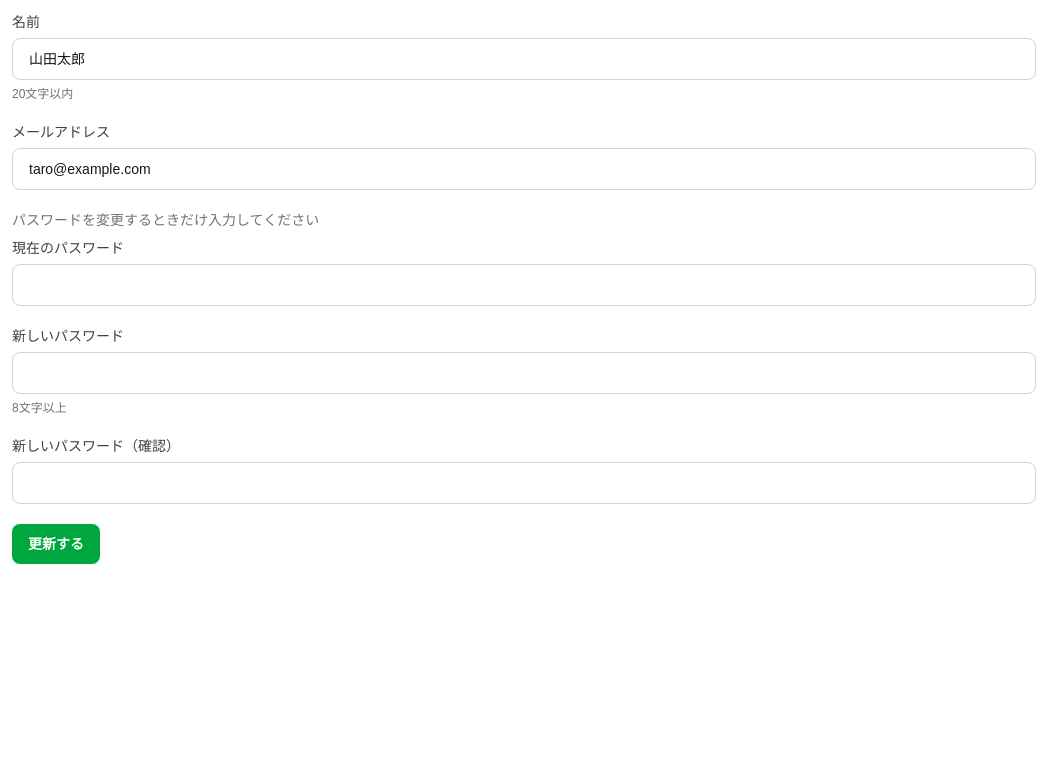
Test: 新しいパスワードを入れたときだけ、長さ・確認用・現在のパスワードを確かめる
The image size is (1048, 780).
Type "short" into the password field labelled "新しいパスワード" at (524, 373), box [12, 352, 1036, 394]
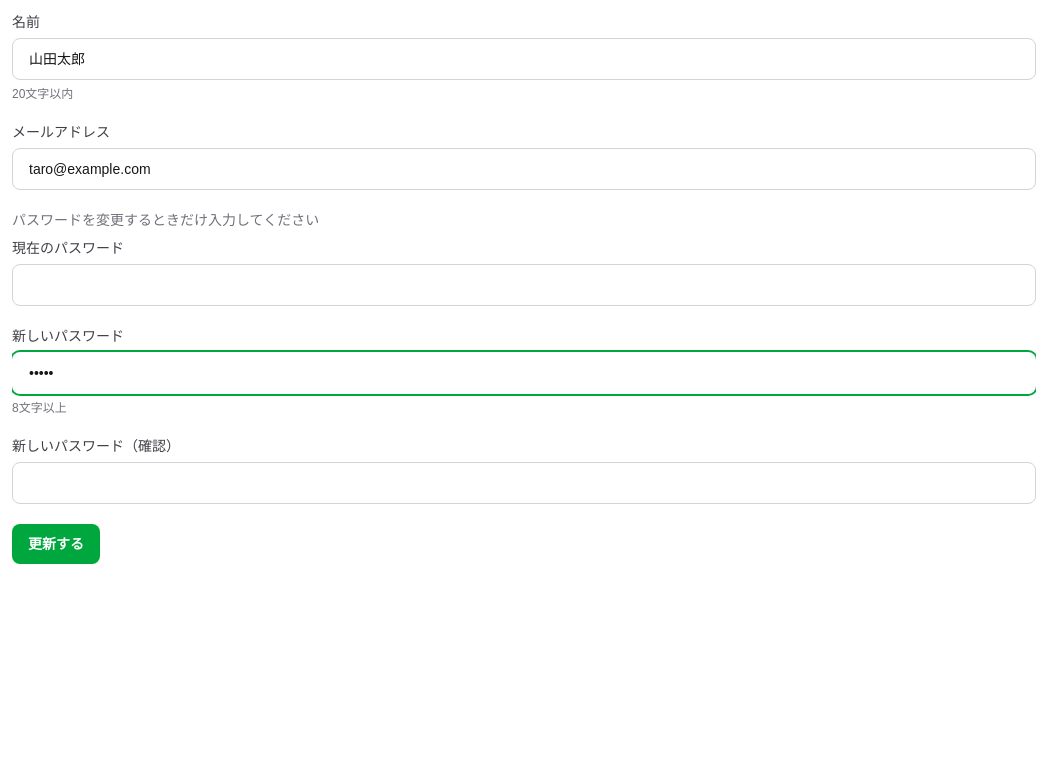
Type "different" into the password field labelled "新しいパスワード（確認）" at (524, 483), box [12, 462, 1036, 504]
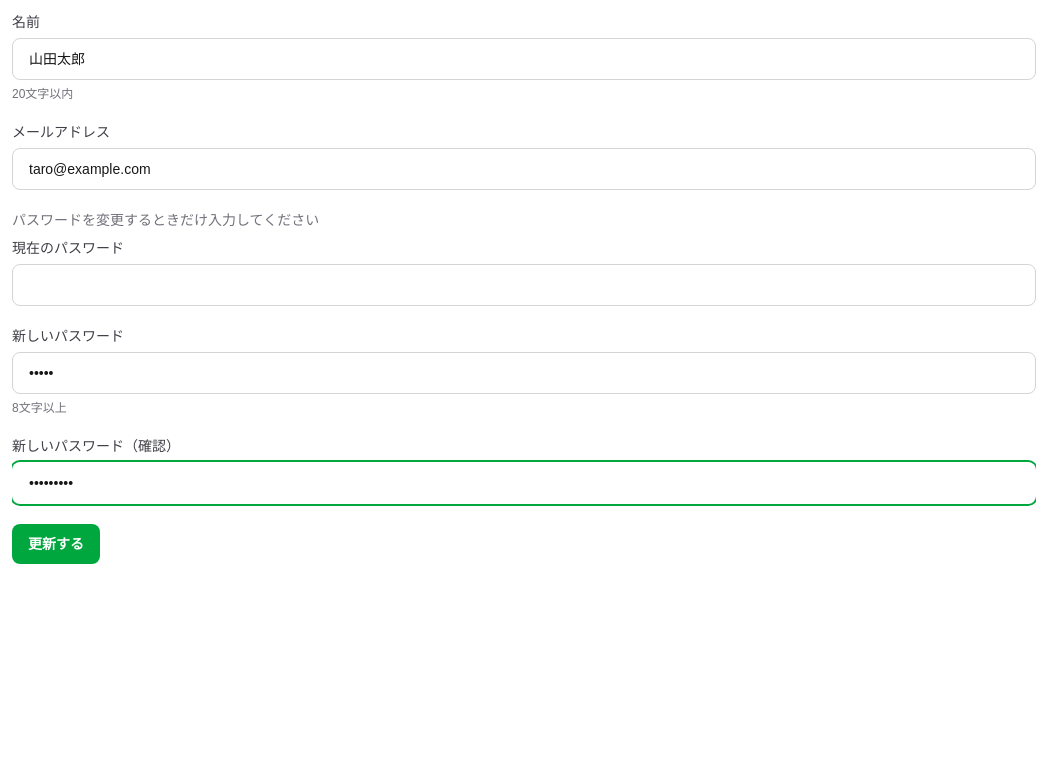
Click the button "更新する" at (56, 544), box [12, 524, 100, 564]
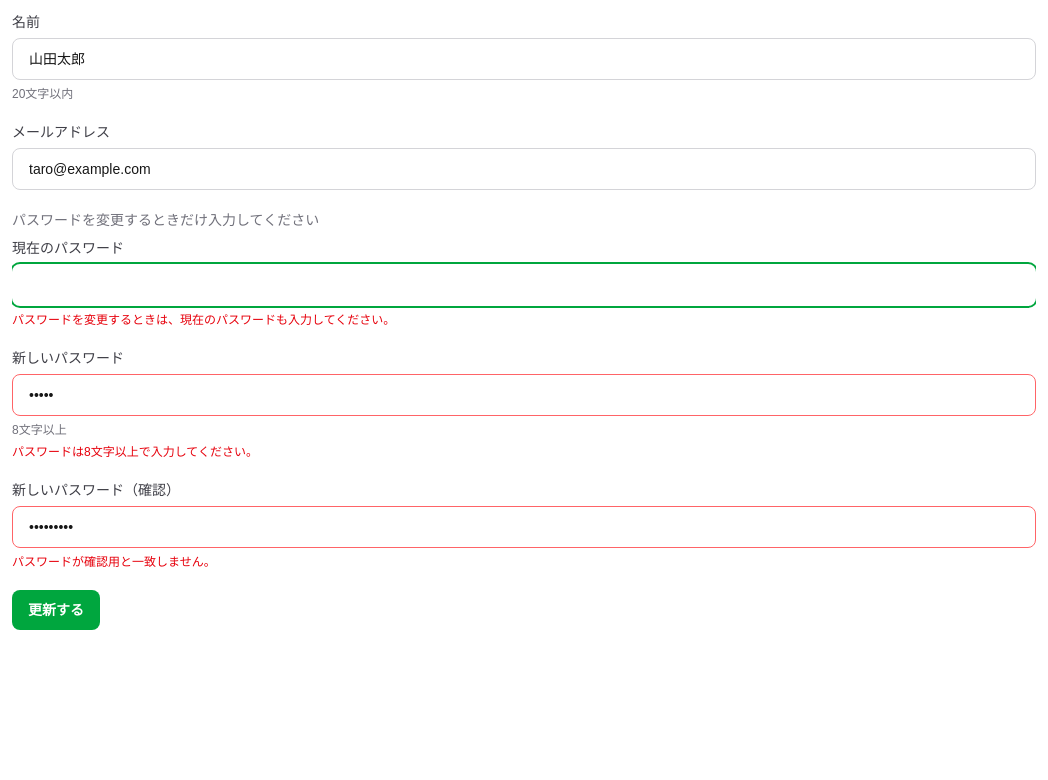
Expected: the text "パスワードは8文字以上で入力してください。" is shown, [12, 445, 258, 459]
Expected: the text "パスワードが確認用と一致しません。" is shown, [12, 555, 216, 569]
Expected: the text "パスワードを変更するときは、現在のパスワードも入力してください。" is shown, [12, 313, 395, 327]
